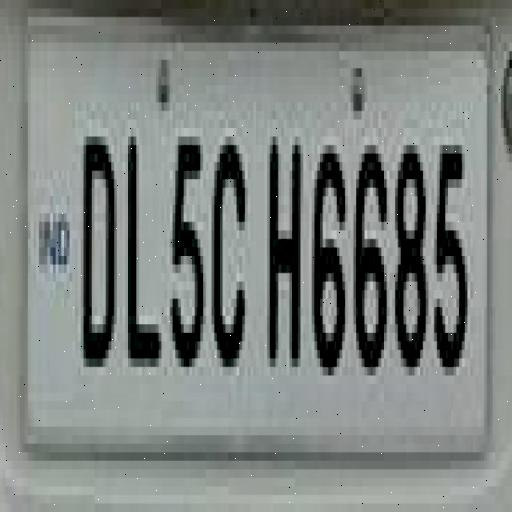number plate: (0, 16, 493, 470)
